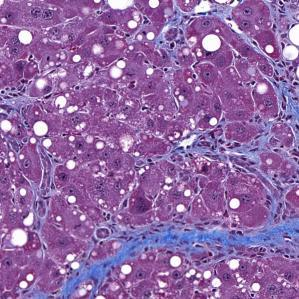fibrosis: (120, 219, 213, 262), (222, 215, 297, 267), (50, 255, 119, 299), (273, 71, 299, 149)
